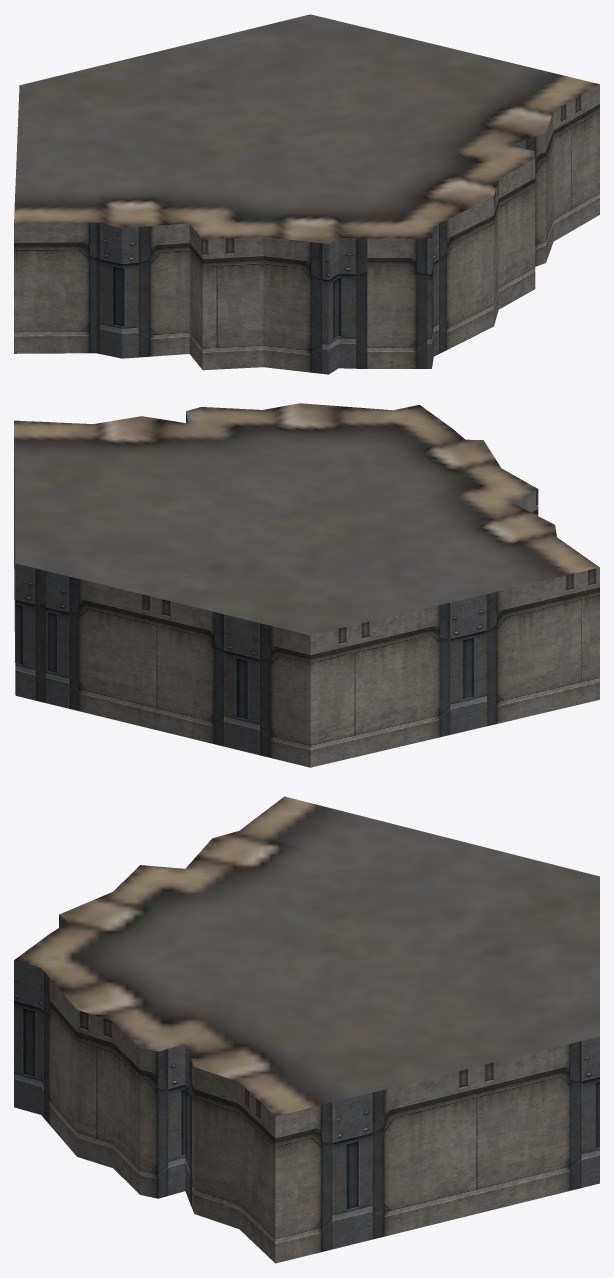
The model's file is building_heavy_35.glb.
3 renders of one model, top to bottom at view 1: azimuth 30°, elevation 25°; view 2: azimuth 150°, elevation 25°; view 3: azimuth 270°, elevation 25°, orthographic. The views are drawn at different scales.
Visible parts, largest first — view 1: buildings/saxarba/building_heavy/building_heavy_35; view 2: buildings/saxarba/building_heavy/building_heavy_35; view 3: buildings/saxarba/building_heavy/building_heavy_35.
Boxes of the visible parts, box(x1,y1,x2,y2) form: buildings/saxarba/building_heavy/building_heavy_35: box(14, 14, 599, 374); buildings/saxarba/building_heavy/building_heavy_35: box(14, 403, 599, 767); buildings/saxarba/building_heavy/building_heavy_35: box(14, 796, 599, 1263).
Bounding box in the file's own units: 84 × 18 × 65.
